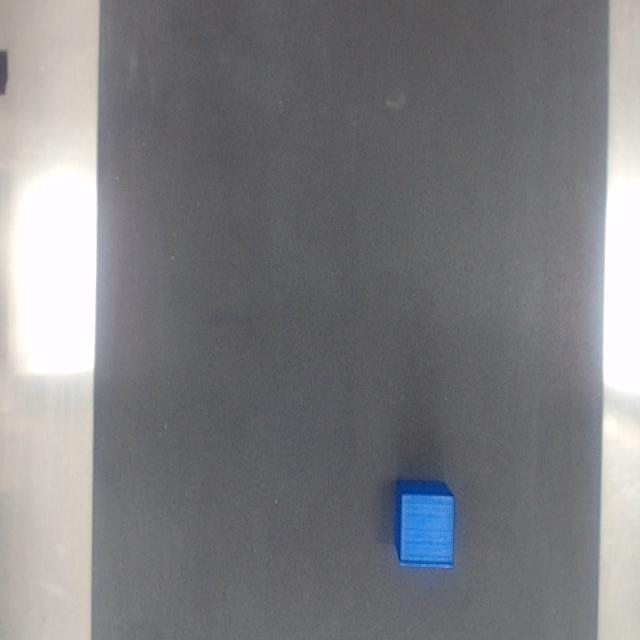Azul: (395, 480, 453, 568)
